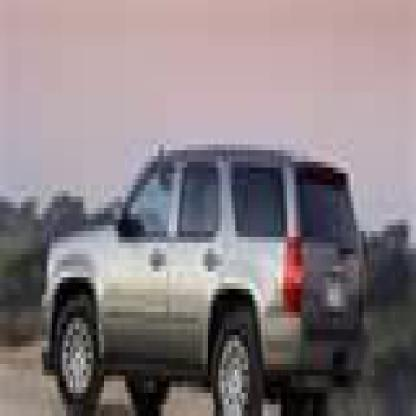Vehicle: (39, 139, 377, 410)
